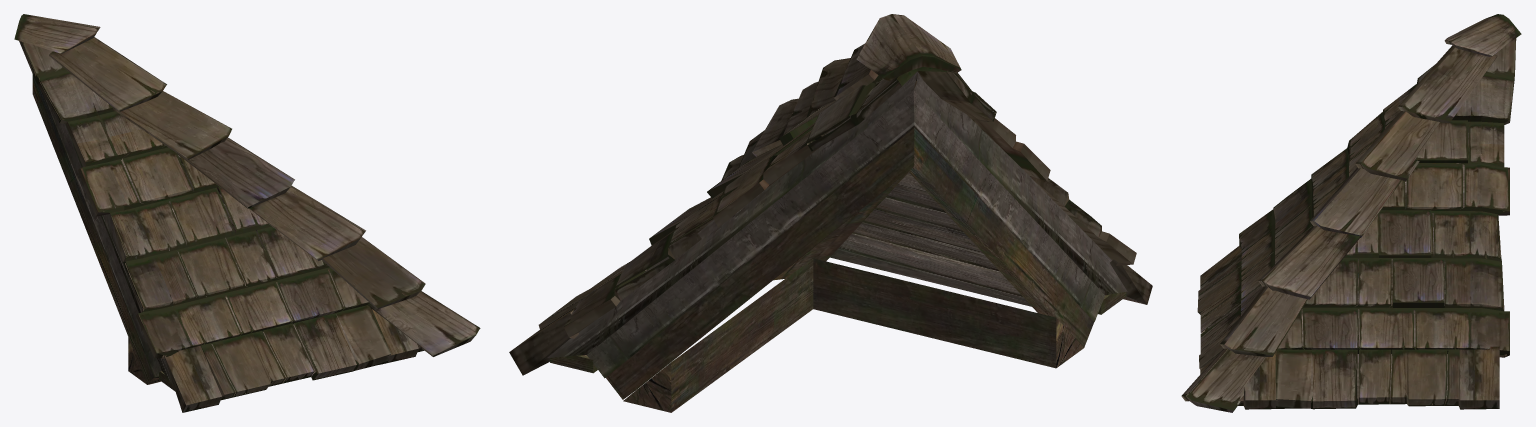
3 renders of one model, left to right at view 1: azimuth 30°, elevation 25°; view 2: azimuth 150°, elevation 25°; view 3: azimuth 270°, elevation 25°, orthographic. The views are drawn at different scales.
Visible parts, largest first — view 1: SM_T1_Roof_Med_Hip_LOD0; view 2: SM_T1_Roof_Med_Hip_LOD0; view 3: SM_T1_Roof_Med_Hip_LOD0.
Boxes of the visible parts, x1,y1,x2,y2 form: SM_T1_Roof_Med_Hip_LOD0: (14, 14, 480, 412); SM_T1_Roof_Med_Hip_LOD0: (509, 14, 1152, 412); SM_T1_Roof_Med_Hip_LOD0: (1181, 14, 1521, 412).
Size of the model in its own units: 2.38 by 2.09 by 2.38.
Materials: 3 (3 with a texture image).
